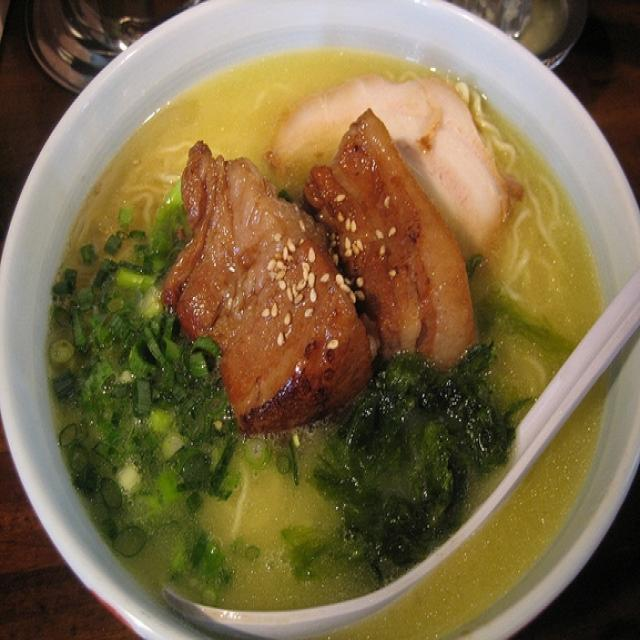猪肉菜式: (20, 13, 633, 631)
